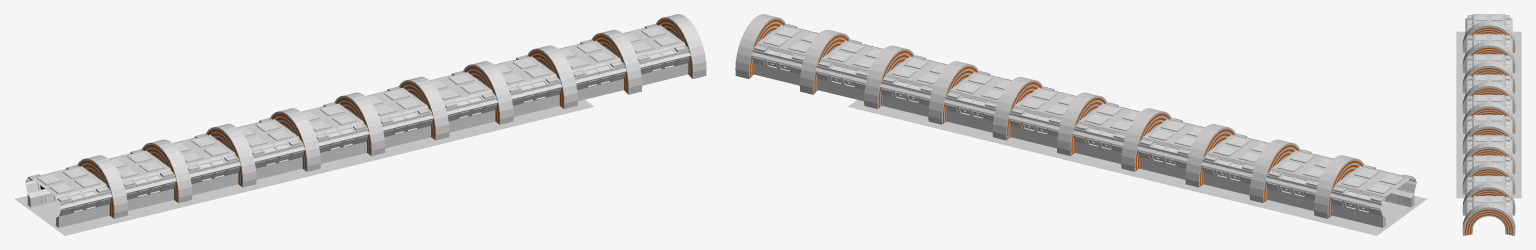
File: sci fi corridor 2.fbx
The picture shows the model from 3 angles, left to right: view 1: azimuth 30°, elevation 25°; view 2: azimuth 150°, elevation 25°; view 3: azimuth 270°, elevation 25°; orthographic projection. The views are drawn at different scales.
Visible parts, largest first — view 1: Cylinder, Plane; view 2: Cylinder, Plane; view 3: Cylinder, Plane.
Part boxes in pixels (<box>): Cylinder: <box>25,14,706,227</box>; Plane: <box>15,100,593,235</box>; Cylinder: <box>735,14,1416,227</box>; Plane: <box>848,100,1426,235</box>; Cylinder: <box>1462,14,1515,235</box>; Plane: <box>1456,31,1521,198</box>.
Size of the model in its own units: 9555 by 626 by 1295.
